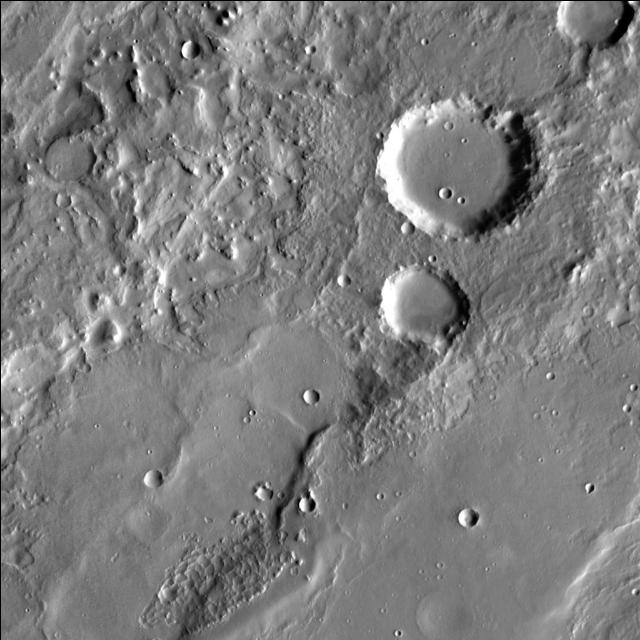crater: (374, 94, 530, 237), (376, 262, 464, 344), (552, 0, 628, 47), (412, 588, 471, 640), (39, 134, 90, 182), (119, 500, 162, 540), (130, 59, 170, 96), (453, 506, 473, 525), (174, 38, 194, 57), (138, 468, 158, 486), (292, 495, 310, 511), (250, 483, 268, 499), (298, 388, 314, 402), (50, 192, 66, 206), (394, 218, 410, 232), (106, 262, 120, 276), (432, 185, 446, 198), (332, 273, 344, 285), (576, 481, 588, 493), (299, 46, 309, 55), (616, 402, 626, 411), (436, 122, 446, 130), (422, 252, 431, 260), (540, 370, 549, 378), (623, 382, 631, 390), (370, 490, 378, 498), (626, 586, 634, 594), (370, 129, 378, 136), (415, 36, 423, 43), (452, 194, 459, 202), (278, 482, 286, 489), (245, 407, 252, 414), (26, 584, 32, 592), (489, 386, 496, 392), (534, 404, 541, 410), (410, 442, 417, 448)
